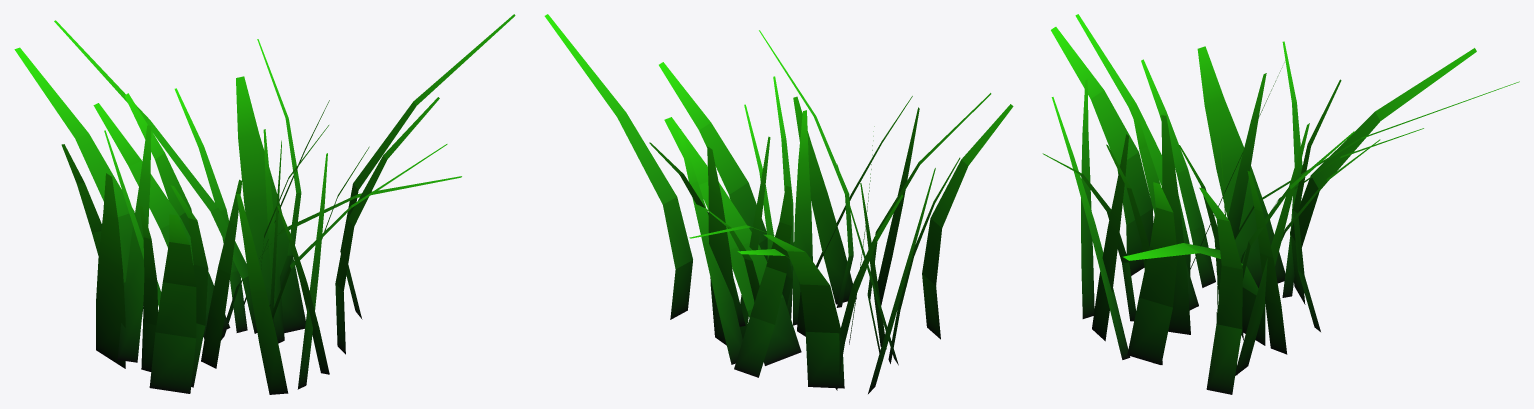
Rendered from grass2.fbx.
3 views of the same model, side by side, from view 1: azimuth 30°, elevation 25°; view 2: azimuth 150°, elevation 25°; view 3: azimuth 270°, elevation 25° (orthographic). The views are drawn at different scales.
Parts seen in each view (by area): view 1: Plane; view 2: Plane; view 3: Plane.
Boxes of the visible parts, x1=… form: Plane: x1=14, y1=14, x2=515, y2=394; Plane: x1=544, y1=14, x2=1013, y2=393; Plane: x1=1042, y1=14, x2=1519, y2=394.
Bounding box in the file's own units: 374 × 247 × 361.
